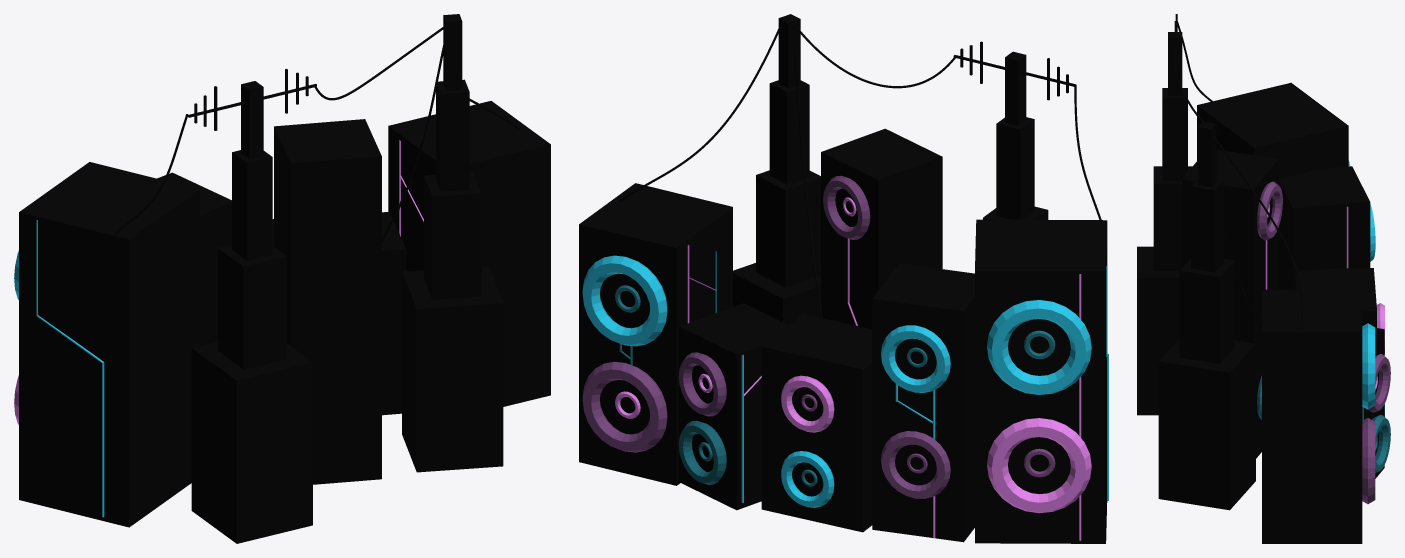
Rendered from EnKore.fbx.
3 views of the same model, side by side, from view 1: azimuth 30°, elevation 25°; view 2: azimuth 150°, elevation 25°; view 3: azimuth 270°, elevation 25° (orthographic). The views are drawn at different scales.
Visible parts, largest first — view 1: Cube.005, Cube.007, Cube.002, Cube.006, Cube, Cube.001, Cube.004; view 2: Cube.005, Cube, Cube.004, Cube.003, Cube.002, Cube.006, Cube.001, Cube.007, Torus.022, Torus.020, Torus, Torus.003 (+9 smaller); view 3: Cube, Cube.006, Cube.007, Cube.005, Cube.002, Cube.004, Cube.003, Torus, Torus.003, Torus.009, Torus.005, Torus.007 (+2 smaller).
Part boxes in pixels (<box>): Cube.005: <box>19,162,199,527</box>; Cube.007: <box>188,69,316,543</box>; Cube.002: <box>274,119,381,484</box>; Cube.006: <box>402,14,503,472</box>; Cube: <box>388,101,550,406</box>; Cube.001: <box>382,211,406,415</box>; Cube.004: <box>157,172,231,345</box>; Cube.005: <box>975,219,1107,543</box>; Cube: <box>579,183,732,485</box>; Cube.004: <box>872,263,974,542</box>; Cube.003: <box>761,313,872,532</box>; Cube.002: <box>821,128,942,328</box>; Cube.006: <box>733,14,820,325</box>; Cube.001: <box>679,303,788,510</box>; Cube.007: <box>953,41,1075,219</box>; Torus.022: <box>987,418,1091,513</box>; Torus.020: <box>987,300,1091,394</box>; Torus: <box>582,255,667,346</box>; Torus.003: <box>582,361,667,452</box>; Cube: <box>1262,289,1362,543</box>; Cube.006: <box>1158,121,1255,510</box>; Cube.007: <box>1137,14,1192,415</box>; Cube.005: <box>1197,82,1348,178</box>; Cube.002: <box>1182,149,1278,458</box>; Cube.004: <box>1279,166,1370,289</box>; Cube.003: <box>1295,268,1376,327</box>; Torus: <box>1362,323,1375,409</box>; Torus.003: <box>1362,418,1375,504</box>; Torus.009: <box>1257,181,1282,240</box>; Torus.005: <box>1368,354,1390,412</box>; Torus.007: <box>1372,415,1390,472</box>.
Bounding box in the file's own units: 998 × 815 × 506.
